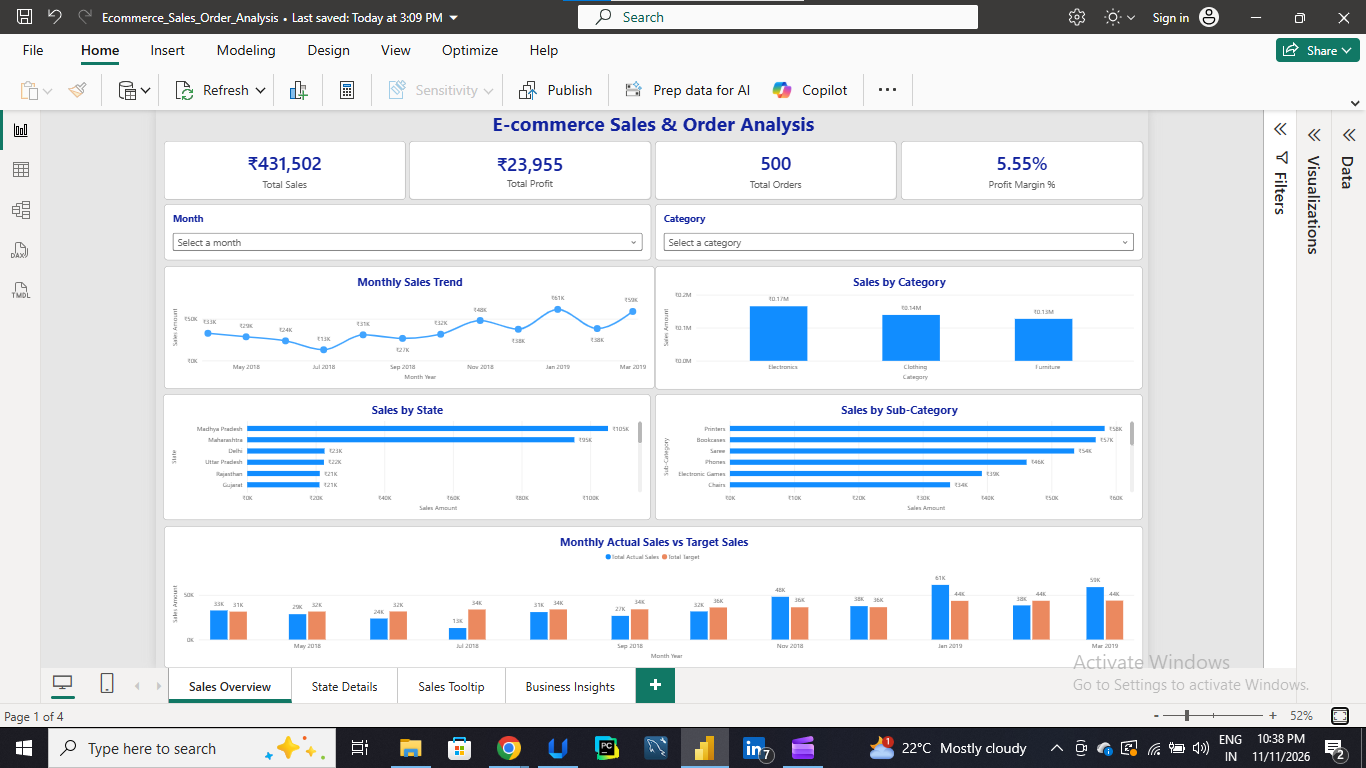

What the dashboard file says about the page in this screenshot:
{"tool":"powerbi","page":{"name":"Sales Overview","canvas":[1920,1080],"ordinal":0},"visuals":[{"type":"cardVisual","title":"Total Sales","fields":{"Data":["Sum(Order_Details.Amount)"]},"box":[15,60,467.5,113.8],"z":0},{"type":"cardVisual","title":"Total Profit","fields":{"Data":["Order_Details.Total Profit Display"]},"box":[490,60,468.8,113.8],"z":1000},{"type":"cardVisual","title":"Total Orders","fields":{"Data":["Count(Order_Details.Order ID)"]},"box":[966.2,60,467.5,113.8],"z":2000},{"type":"lineChart","title":"Monthly Sales Trend","fields":{"Category":["Month.Month Start Date"],"Y":["Sum(Order_Details.Amount)"]},"box":[15.5,301.9,950.3,238.1],"z":3000},{"type":"clusteredColumnChart","title":"Sales by Category","fields":{"Category":["Category.Category"],"Y":["Sum(Order_Details.Amount)"]},"box":[965.7,301.4,944.3,238.6],"z":4000},{"type":"clusteredBarChart","title":"Sales by State","fields":{"Category":["List_of_Orders.State"],"Y":["Sum(Order_Details.Amount)"]},"box":[14.3,550,944.3,244.3],"z":5000},{"type":"clusteredBarChart","title":"Sales by Sub-Category","fields":{"Category":["Order_Details.Sub-Category"],"Y":["Sum(Order_Details.Amount)"]},"box":[965.7,550,944.3,244.3],"z":6000},{"type":"listSlicer","title":"Month","fields":{"Values":["Month.Month Year"]},"box":[15.7,181.4,942.9,108.6],"z":7000},{"type":"listSlicer","fields":{"Values":["Category.Category"]},"box":[965.7,181.4,944.3,108.6],"z":8000},{"type":"clusteredColumnChart","title":"\tMonthly Actual Sales vs Target Sales","fields":{"Category":["Month.Month Start Date"],"Y":["Order_Details.Total Actual Sales","Sales_target.Total Target"]},"box":[15.5,805.2,1894.8,274.8],"z":9000},{"type":"cardVisual","title":"Profit Margin %","fields":{"Data":["Order_Details.Profit Margin %"]},"box":[1441.4,60,468.6,114.3],"z":10000},{"type":"textbox","box":[14.9,0,1894.3,59.5],"z":11000}]}

Visuals, with their boxes on the page's 1920x1080 design canvas (x1, y1, x2, y2). These are canvas units, not pixel positions in the 1366x768 screenshot, which may show the page scaled, cropped or inside an application window:
"Total Sales" cardVisual: region(15, 60, 482, 174)
"Total Profit" cardVisual: region(490, 60, 959, 174)
"Total Orders" cardVisual: region(966, 60, 1434, 174)
"Monthly Sales Trend" lineChart: region(16, 302, 966, 540)
"Sales by Category" clusteredColumnChart: region(966, 301, 1910, 540)
"Sales by State" clusteredBarChart: region(14, 550, 959, 794)
"Sales by Sub-Category" clusteredBarChart: region(966, 550, 1910, 794)
"Month" listSlicer: region(16, 181, 959, 290)
listSlicer - Category.Category: region(966, 181, 1910, 290)
"	Monthly Actual Sales vs Target Sales" clusteredColumnChart: region(16, 805, 1910, 1080)
"Profit Margin %" cardVisual: region(1441, 60, 1910, 174)
textbox: region(15, 0, 1909, 60)
